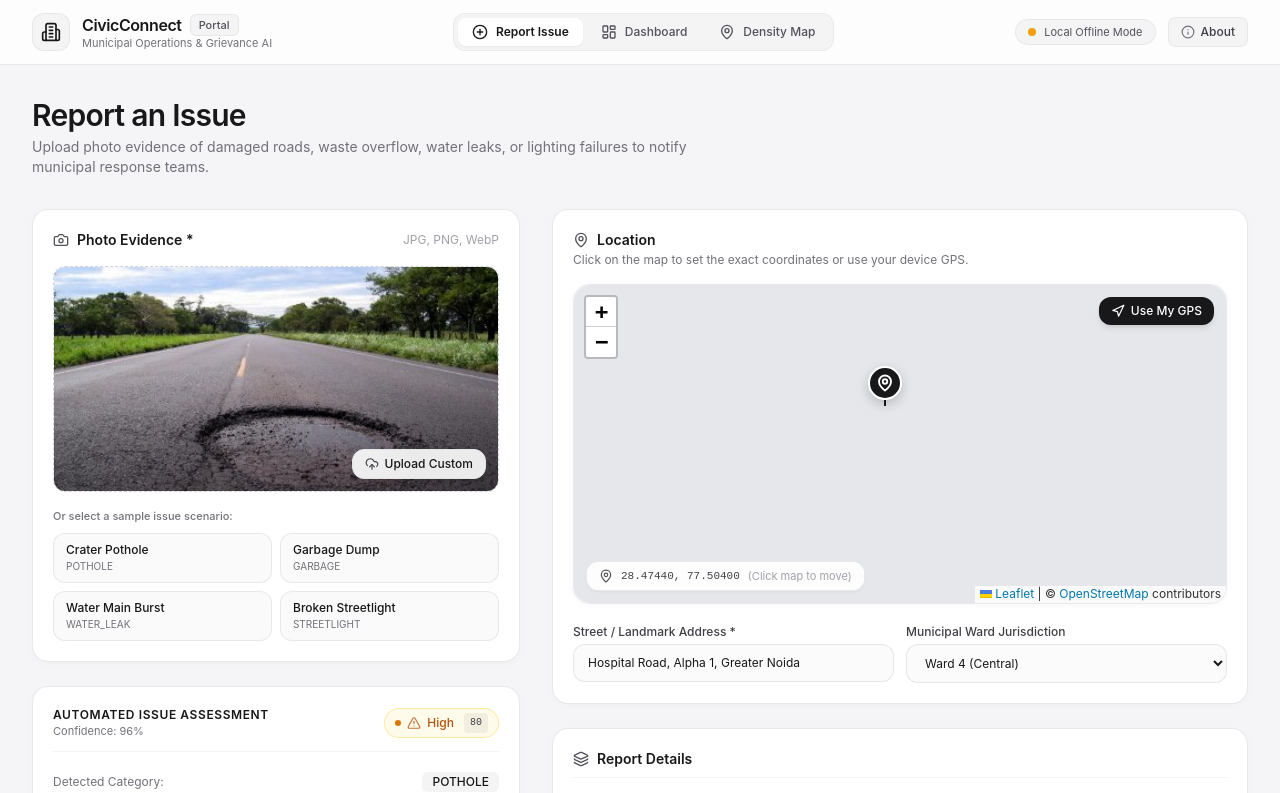
CivicConnect Frontend Component & E2E Pipeline › allows switching to Municipal Dashboard and renders KPI cards
The width and height of the screenshot is (1280, 793).
Click the button with aria-label "Municipal Dashboard": x=644, y=32 [587, 18, 701, 46]
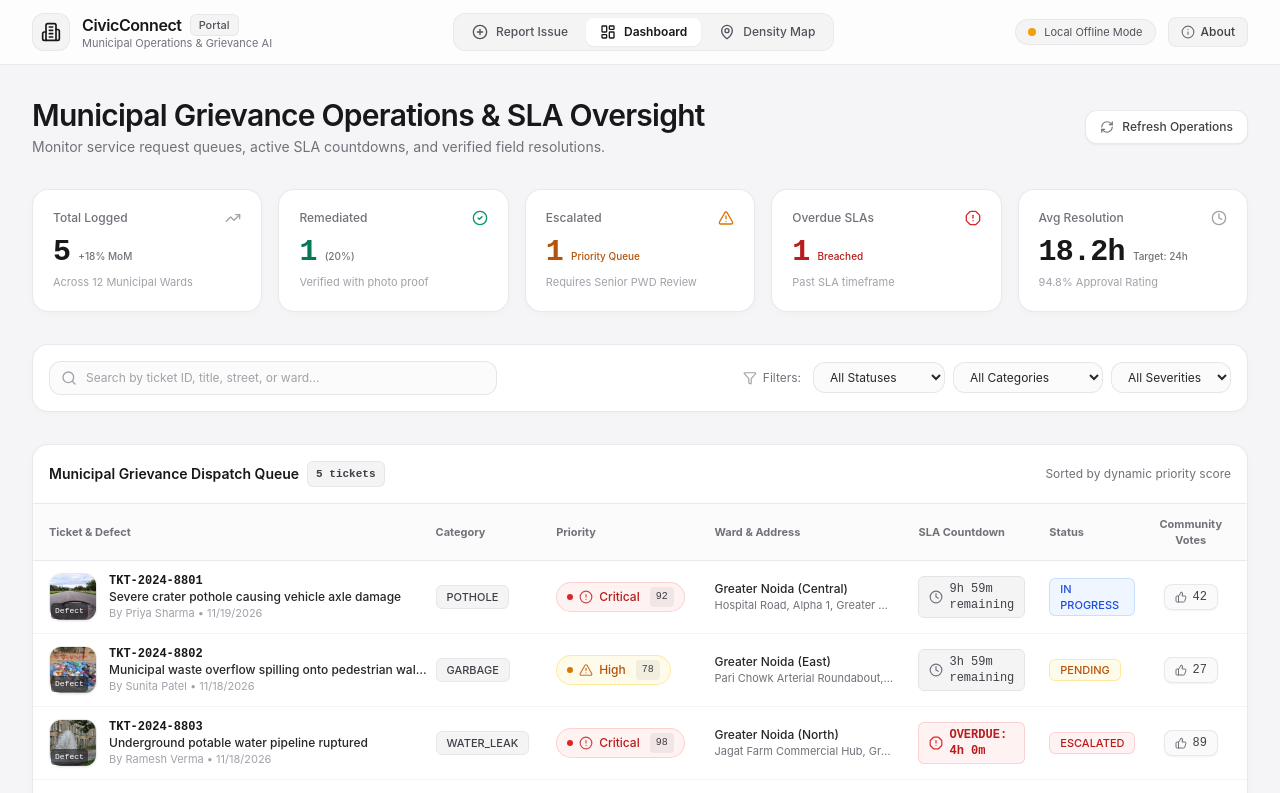
Result: the heading "Municipal Grievance Operations & SLA Oversight" is shown at [32, 97, 705, 133]
Result: the text "Total Logged" is shown at [53, 210, 128, 226]
Result: the text "Remediated" is shown at [299, 210, 368, 226]
